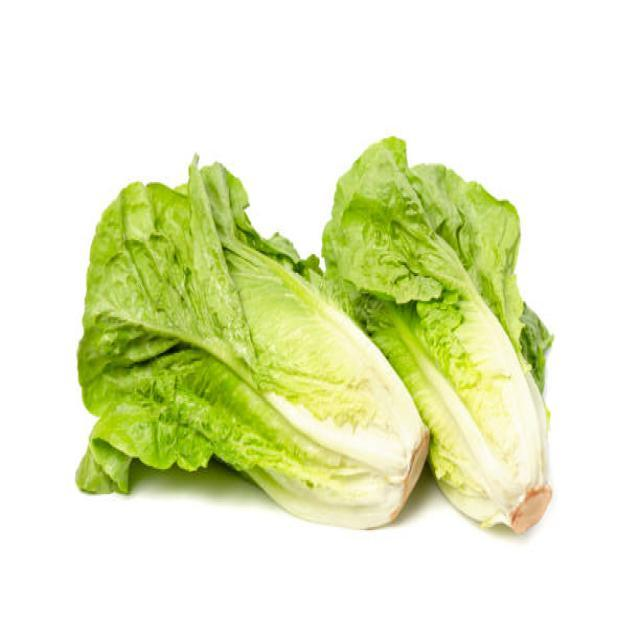Lettuce-Ready-to-Harvest: (73, 155, 433, 532), (308, 137, 563, 534)
